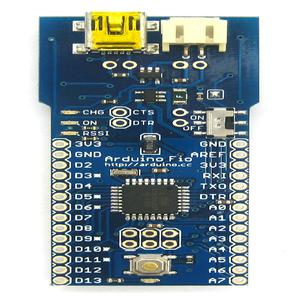duino: (32, 7, 259, 299)
